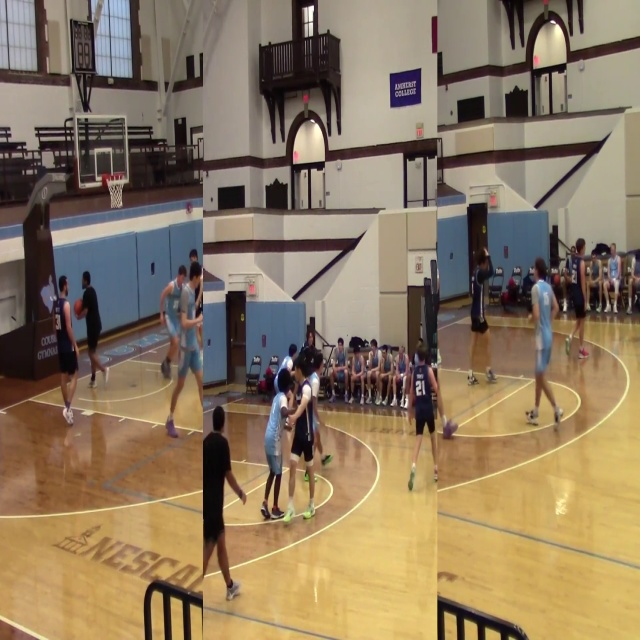Basketball: (74, 299, 83, 316)
